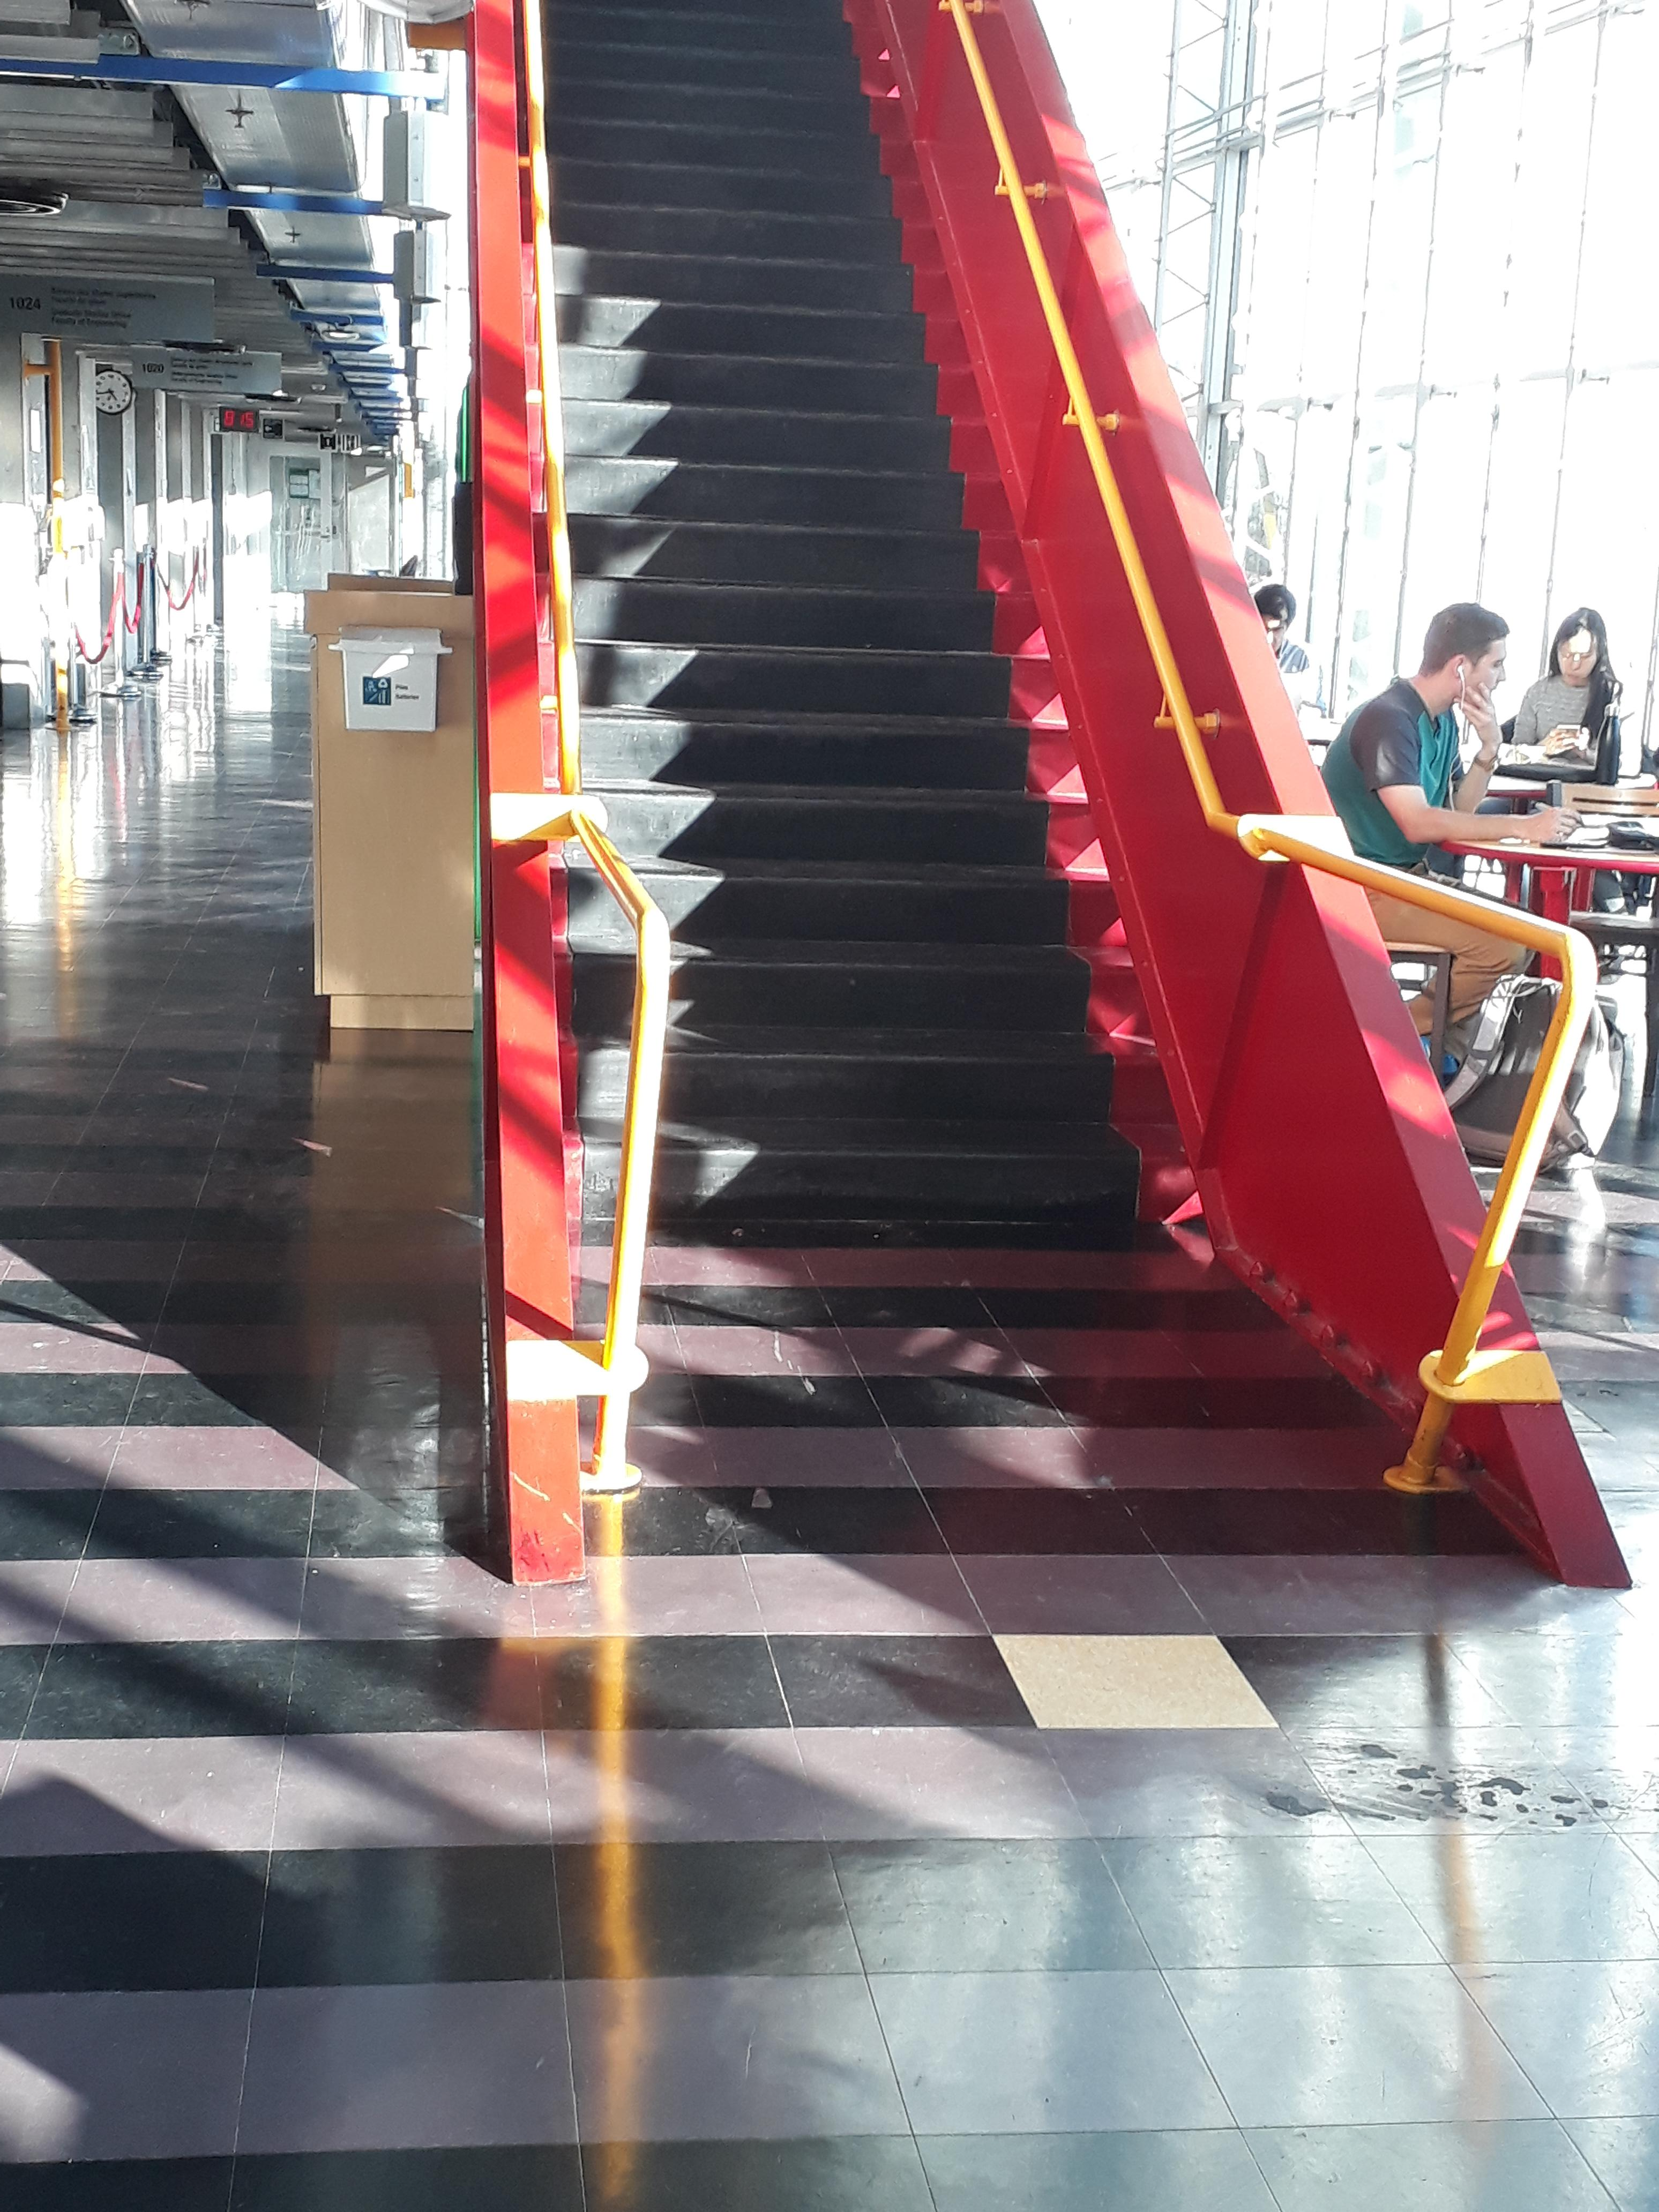door: (263, 447, 326, 597)
person: (1320, 602, 1583, 1077), (1510, 607, 1642, 778)
sign: (361, 675, 425, 707)
stair: (515, 1, 1211, 1223)
